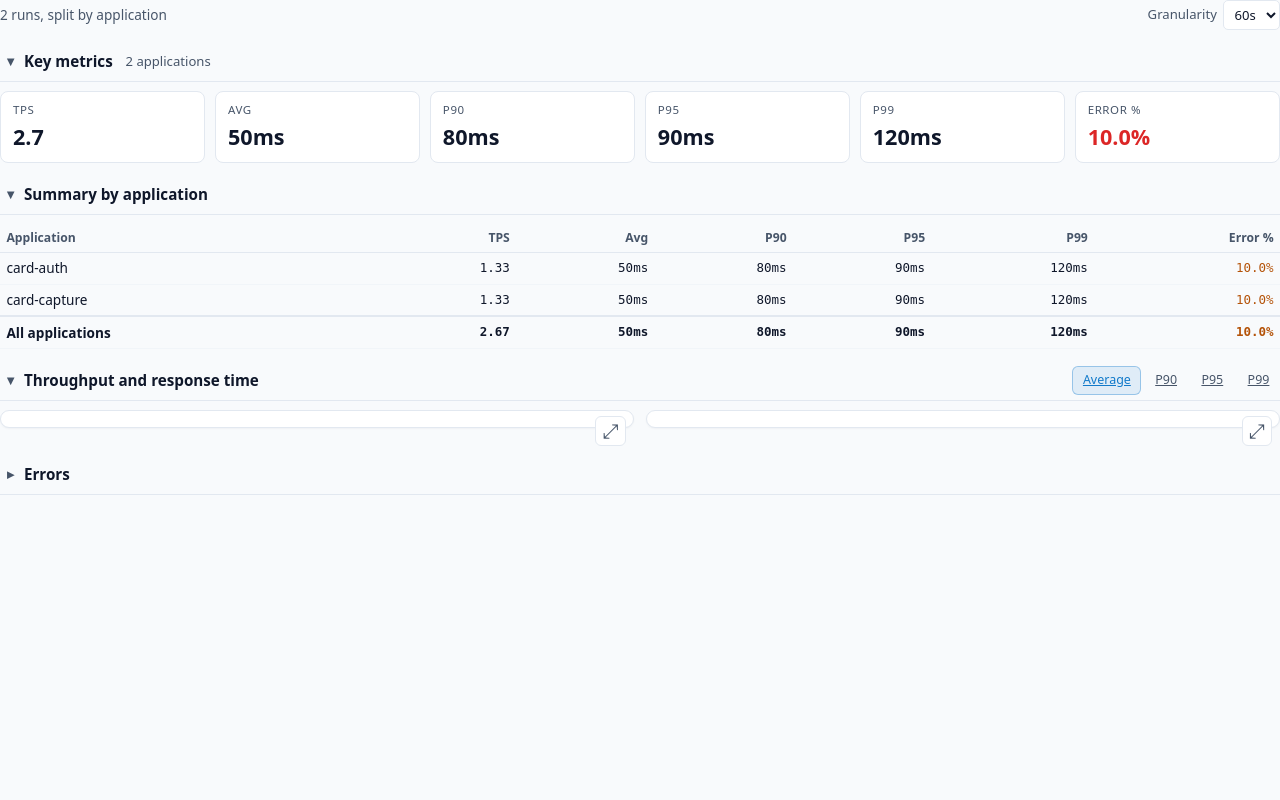
Scenario: WorkflowMetricsPanel › every chart can be enlarged, the same control the run's Metrics tab has
What coordinates should you click on to do the following:
click the button named "Enlarge "
I would click on:
 (610, 431)
Its box is [595,416,626,446].
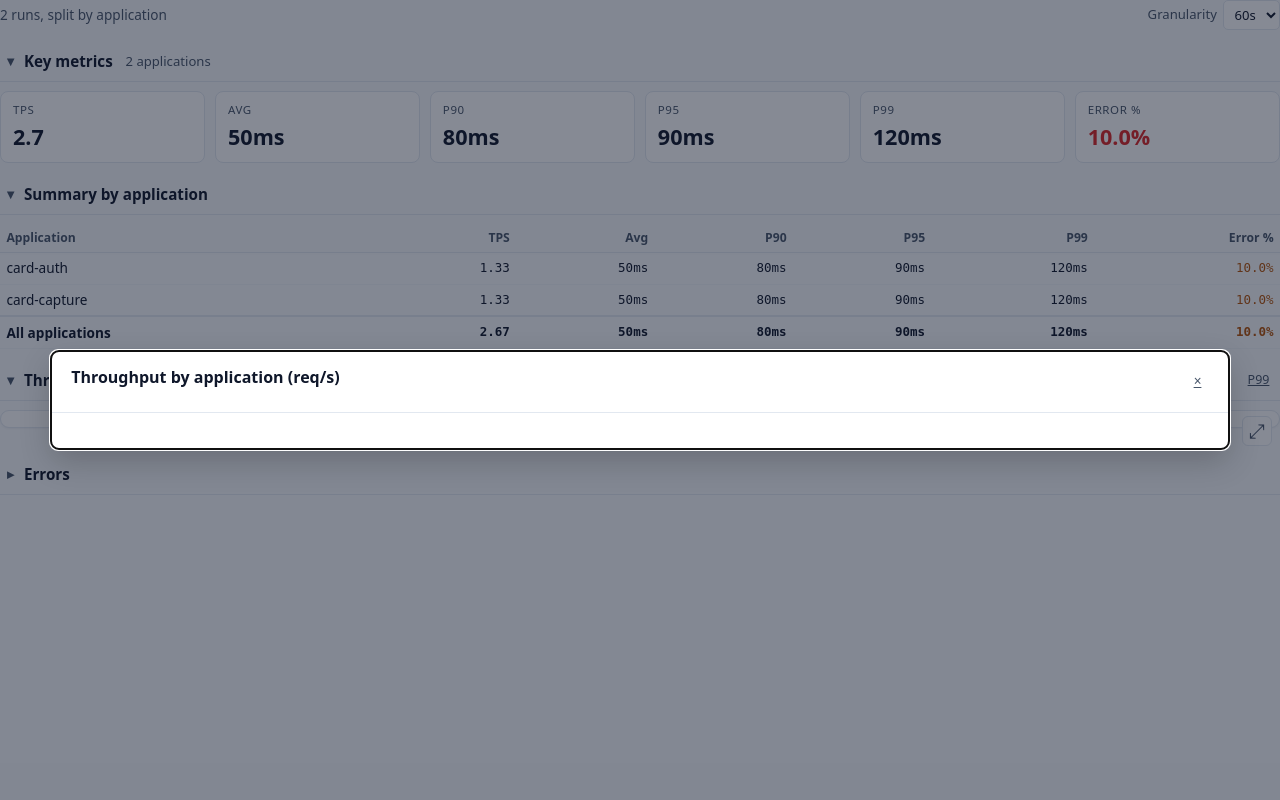
Expected: the heading "Throughput by application (req/s)" is shown, [71,367,340,387]
